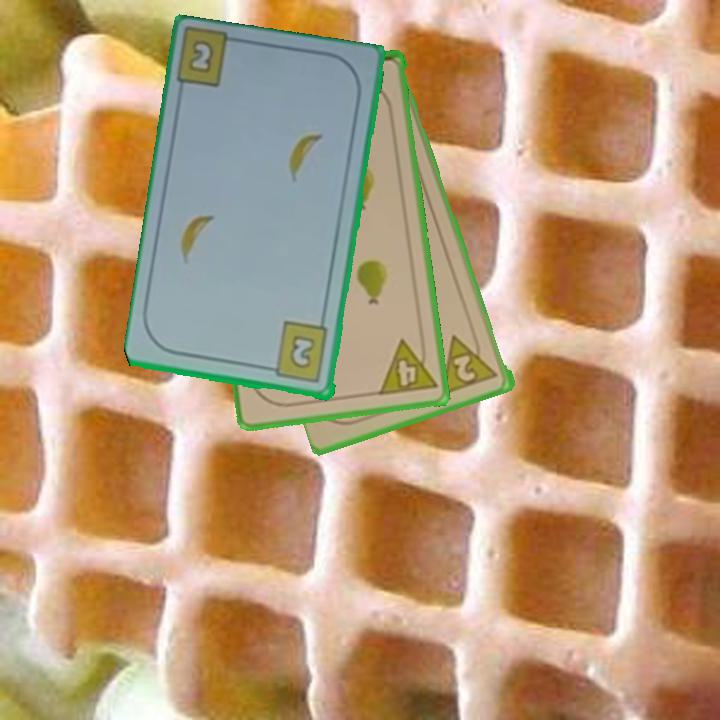2b: (263, 319, 331, 386), (174, 29, 246, 91)
2p: (438, 326, 503, 398)
4p: (375, 334, 440, 398)
